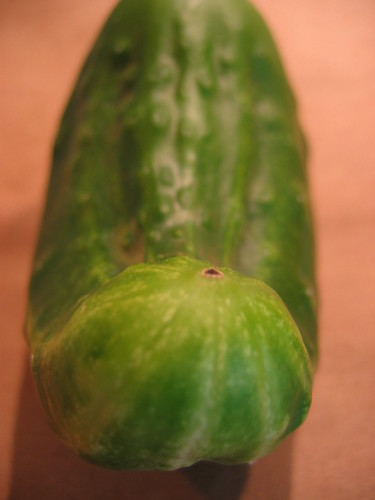cucumber: (26, 1, 320, 469)
